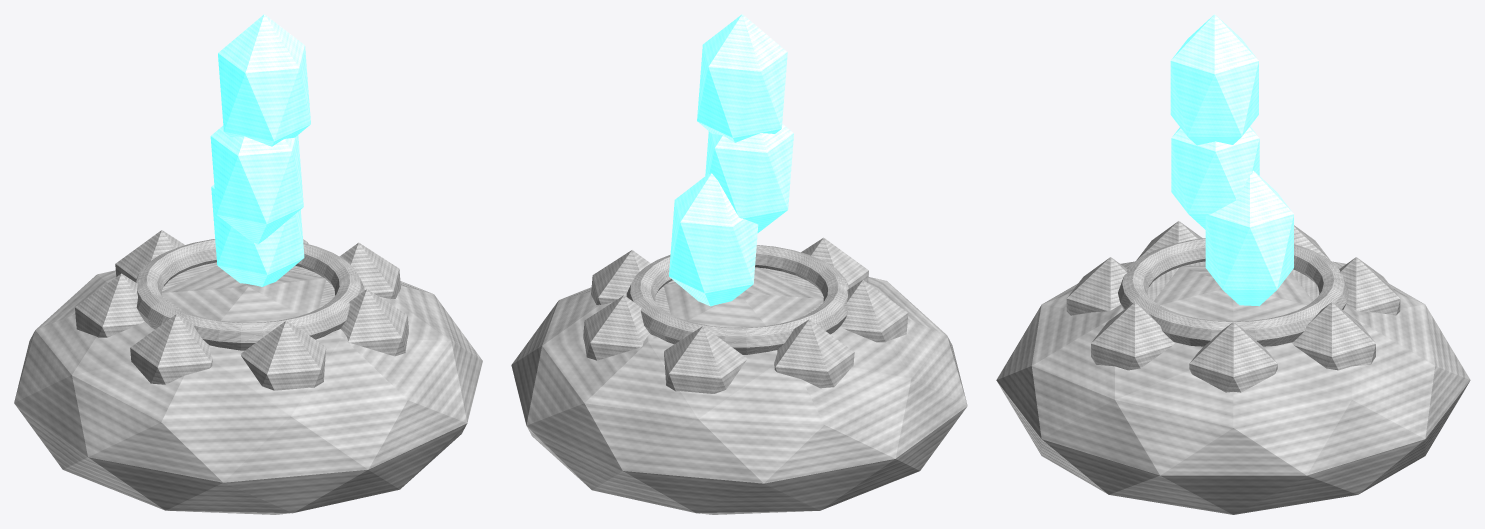
Rendered from geyser_variant_d.glb.
3 renders of one model, left to right at view 1: azimuth 30°, elevation 25°; view 2: azimuth 150°, elevation 25°; view 3: azimuth 270°, elevation 25°, orthographic. The views are drawn at different scales.
Parts seen in each view (by area): view 1: Geyser mound, Steam plume volume.011, Geothermal rim, Steam plume volume.010, Steam plume volume.009, Vent rock.026, Vent rock.025, Vent rock.027, Vent rock.024, Vent rock.021, Vent rock.023, Vent throat.003; view 2: Geyser mound, Steam plume volume.011, Steam plume volume.009, Geothermal rim, Steam plume volume.010, Vent rock.023, Vent rock.024, Vent rock.022, Vent rock.025, Vent rock.021, Vent rock.026, Vent throat.003; view 3: Geyser mound, Steam plume volume.011, Steam plume volume.009, Geothermal rim, Steam plume volume.010, Vent rock.021, Vent rock.022, Vent rock.027, Vent rock.023, Vent rock.026, Vent throat.003, Vent rock.025.
Part boxes in pixels (x1,y1,x2,y2): Geyser mound: (14,265,482,514); Steam plume volume.011: (218,14,310,146); Geothermal rim: (135,239,364,350); Steam plume volume.010: (210,126,303,244); Steam plume volume.009: (211,184,304,286); Vent rock.026: (240,321,326,390); Vent rock.025: (130,314,212,384); Vent rock.027: (340,289,408,356); Vent rock.024: (75,273,144,337); Vent rock.021: (339,242,400,299); Vent rock.023: (115,230,184,281); Vent throat.003: (162,262,334,309); Geyser mound: (511,267,967,514); Steam plume volume.011: (697,14,787,142); Steam plume volume.009: (669,173,758,306); Geothermal rim: (626,245,849,354); Steam plume volume.010: (705,124,793,232); Vent rock.023: (664,326,746,393); Vent rock.024: (774,319,854,388); Vent rock.022: (583,295,649,360); Vent rock.025: (840,280,908,342); Vent rock.021: (591,250,650,304); Vent rock.026: (801,237,868,287); Vent throat.003: (655,268,823,315); Geyser mound: (996,261,1470,514); Steam plume volume.011: (1170,14,1258,145); Steam plume volume.009: (1205,170,1293,306); Geothermal rim: (1118,238,1348,346); Steam plume volume.010: (1171,126,1259,229); Vent rock.021: (1189,322,1277,392); Vent rock.022: (1291,302,1375,370); Vent rock.027: (1091,302,1175,370); Vent rock.023: (1339,257,1400,315); Vent rock.026: (1066,257,1127,315); Vent throat.003: (1147,261,1319,300); Vent rock.025: (1135,221,1202,261).
Size of what is drawn, in the model's own units: 3.04 by 3.45 by 3.2.
4 materials, 4 textured.
